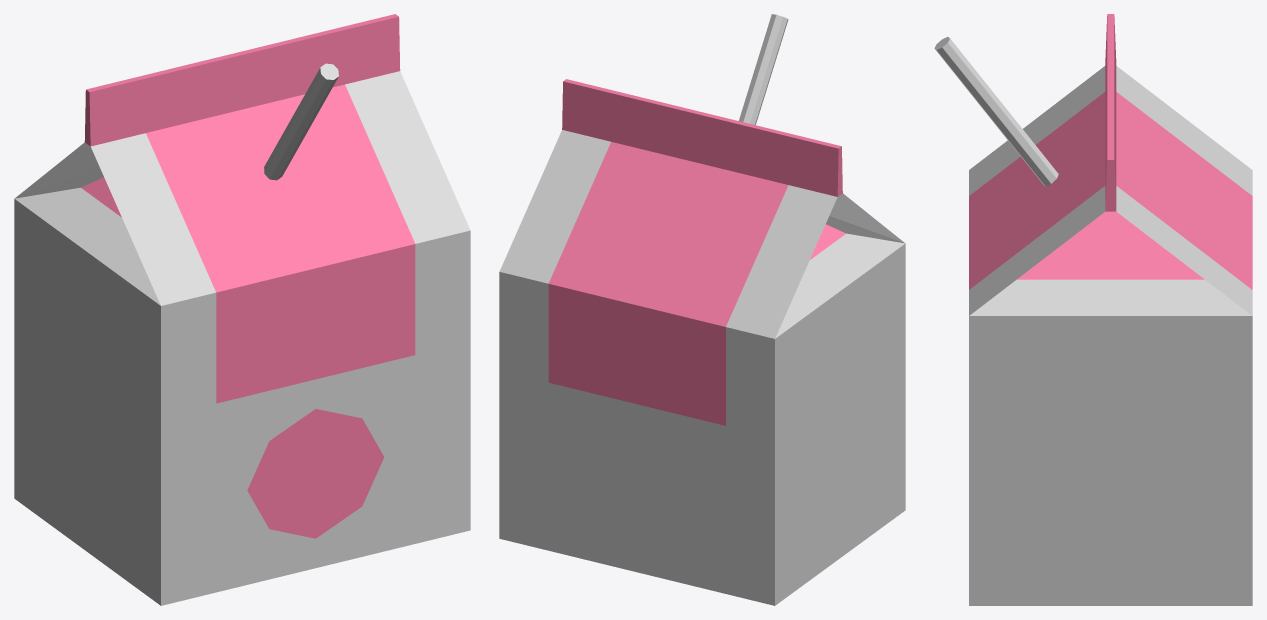
File: box_strawb.fbx
The picture shows the model from 3 angles, left to right: view 1: azimuth 30°, elevation 25°; view 2: azimuth 150°, elevation 25°; view 3: azimuth 270°, elevation 25°; orthographic projection. The views are drawn at different scales.
Visible parts, largest first — view 1: box_milk; view 2: box_milk; view 3: box_milk.
Boxes of the visible parts, bbox=[...] form: box_milk: bbox=[14, 14, 470, 605]; box_milk: bbox=[499, 14, 905, 605]; box_milk: bbox=[934, 14, 1252, 605].
Bounding box in the file's own units: 103 × 162 × 94.58.
